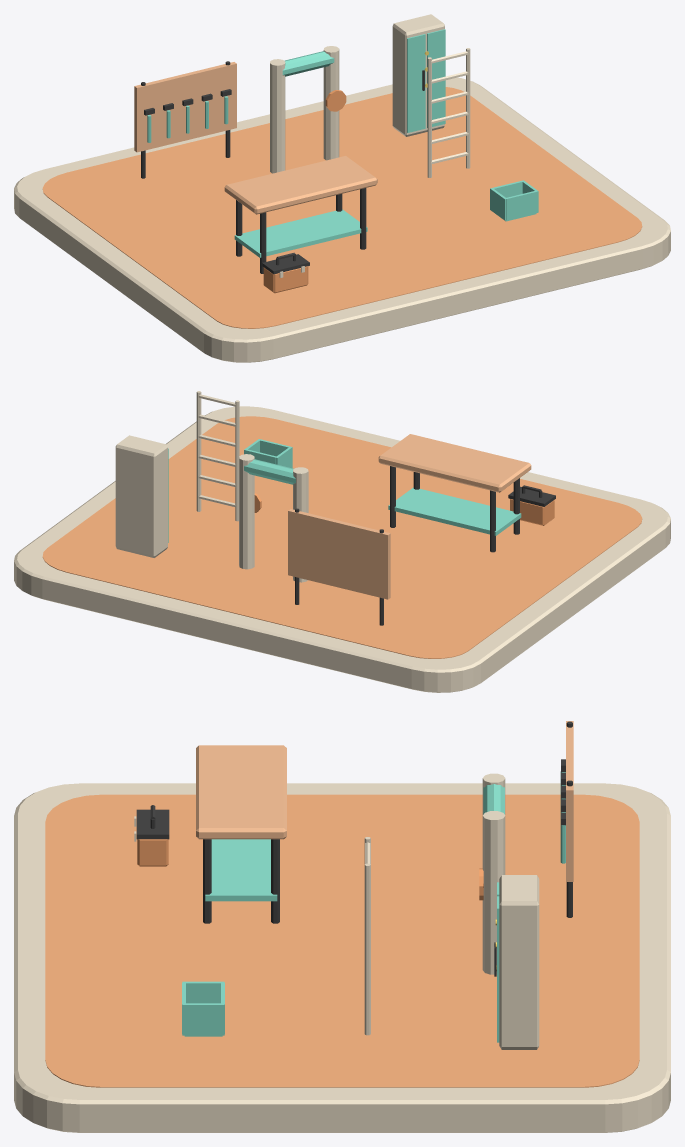
3 renders of one model, top to bottom at view 1: azimuth 30°, elevation 25°; view 2: azimuth 150°, elevation 25°; view 3: azimuth 270°, elevation 25°, orthographic. The views are drawn at different scales.
Parts seen in each view (by area): view 1: COM-02 Floor Surface, COM-01 Rounded Base Direct, Peg board, Worktop, Lower shelf, Equipment case, Pipe, Door, Pipe.001, Door.001, Box, Cross pipe (+4 smaller); view 2: COM-02 Floor Surface, COM-01 Rounded Base Direct, Peg board, Equipment case, Worktop, Lower shelf, Pipe.001, Cross pipe, Box, Pipe, Rail.001, Rail (+1 smaller); view 3: COM-02 Floor Surface, COM-01 Rounded Base Direct, Worktop, Equipment case, Lower shelf, Pipe.001, Bin side.001, Peg board, Rail.001, Lid, Box, Bin side (+2 smaller).
Part boxes in pixels (bbox=[...]): COM-02 Floor Surface: bbox=[42, 87, 642, 328]; COM-01 Rounded Base Direct: bbox=[14, 77, 670, 362]; Peg board: bbox=[134, 62, 236, 152]; Worktop: bbox=[224, 156, 377, 214]; Lower shelf: bbox=[234, 209, 367, 257]; Equipment case: bbox=[392, 14, 444, 136]; Pipe: bbox=[270, 59, 285, 173]; Door: bbox=[407, 34, 425, 132]; Pipe.001: bbox=[323, 46, 339, 160]; Door.001: bbox=[427, 29, 445, 127]; Box: bbox=[263, 266, 308, 293]; Cross pipe: bbox=[282, 51, 334, 76]; COM-02 Floor Surface: bbox=[42, 416, 642, 658]; COM-01 Rounded Base Direct: bbox=[14, 406, 670, 692]; Peg board: bbox=[288, 509, 390, 599]; Equipment case: bbox=[115, 435, 167, 557]; Worktop: bbox=[378, 434, 531, 492]; Lower shelf: bbox=[388, 487, 521, 535]; Pipe.001: bbox=[239, 454, 254, 569]; Cross pipe: bbox=[244, 459, 295, 484]; Box: bbox=[510, 499, 554, 525]; Pipe: bbox=[293, 467, 308, 582]; Rail.001: bbox=[196, 391, 201, 511]; Rail: bbox=[235, 400, 239, 521]; COM-02 Floor Surface: bbox=[45, 794, 639, 1087]; COM-01 Rounded Base Direct: bbox=[14, 783, 670, 1132]; Worktop: bbox=[196, 745, 286, 839]; Equipment case: bbox=[499, 875, 539, 1049]; Lower shelf: bbox=[205, 839, 277, 901]; Pipe.001: bbox=[482, 811, 505, 974]; Bin side.001: bbox=[182, 1003, 224, 1035]; Peg board: bbox=[566, 721, 573, 881]; Rail.001: bbox=[364, 863, 370, 1035]; Lid: bbox=[136, 809, 169, 839]; Box: bbox=[137, 839, 168, 866]; Bin side: bbox=[182, 981, 224, 1003].
Bounding box in the file's own units: 6 × 1.78 × 5.2.
Materials: 1 (1 with a texture image).
